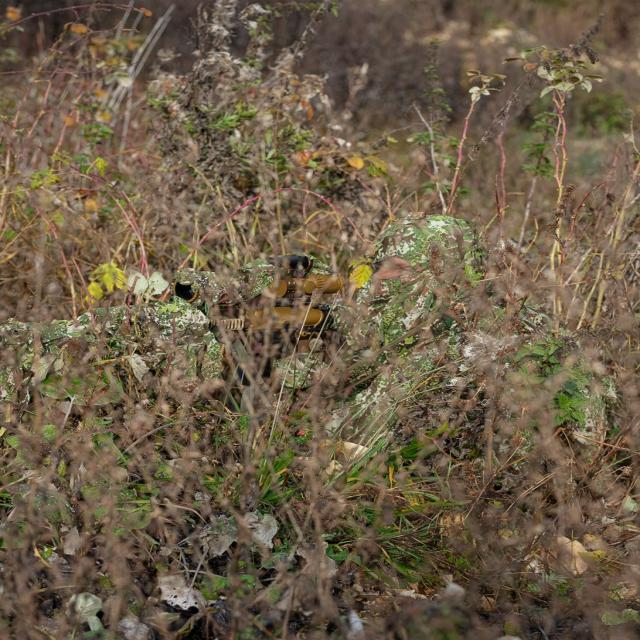Camouflage: (176, 214, 605, 505)
